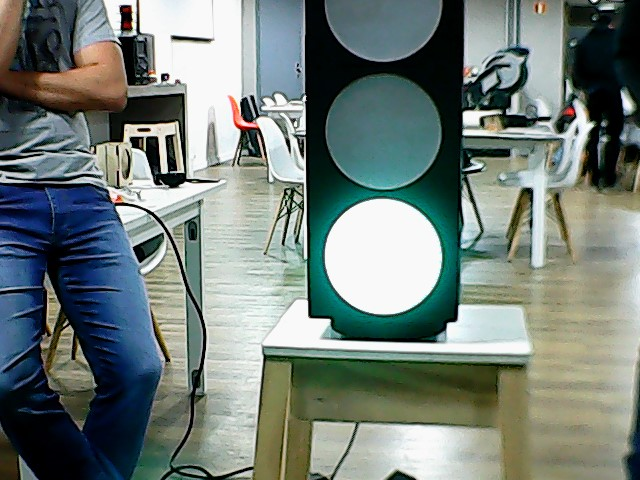verde: (297, 1, 471, 325)
